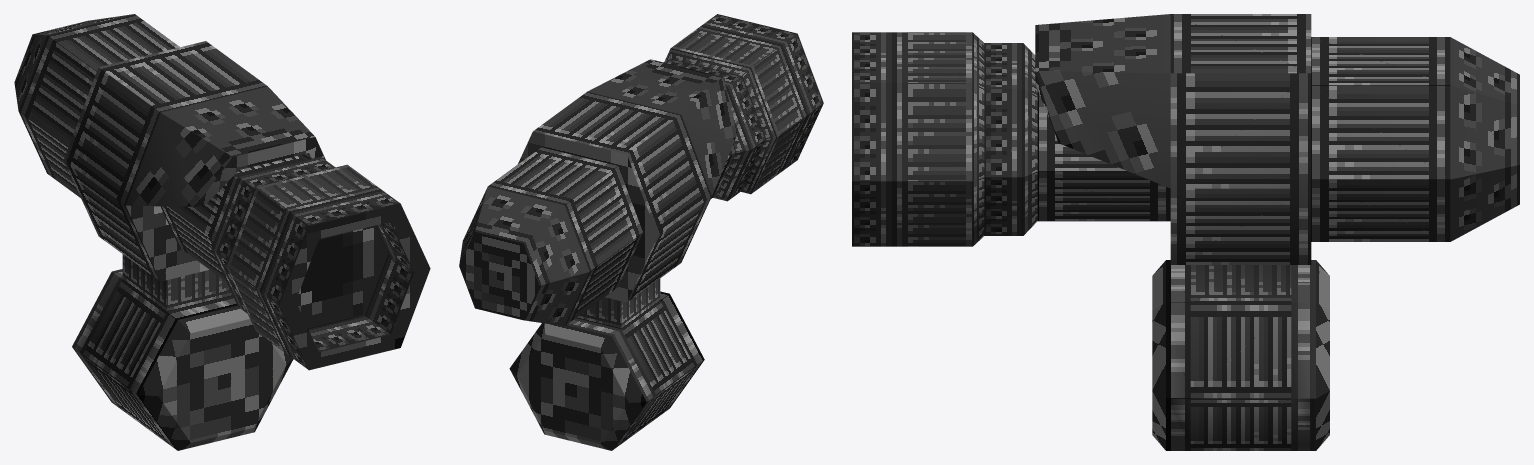
The model's file is weapon_FlakCannon.fbx.
3 renders of one model, left to right at view 1: azimuth 30°, elevation 25°; view 2: azimuth 150°, elevation 25°; view 3: azimuth 270°, elevation 25°, orthographic. The views are drawn at different scales.
Parts seen in each view (by area): view 1: weapon_FlakCannon; view 2: weapon_FlakCannon; view 3: weapon_FlakCannon.
Boxes of the visible parts, bbox=[...] form: weapon_FlakCannon: bbox=[14, 14, 430, 450]; weapon_FlakCannon: bbox=[459, 14, 823, 450]; weapon_FlakCannon: bbox=[852, 14, 1519, 450].
Size of the model in its own units: 1.65 by 3.03 by 4.75.
